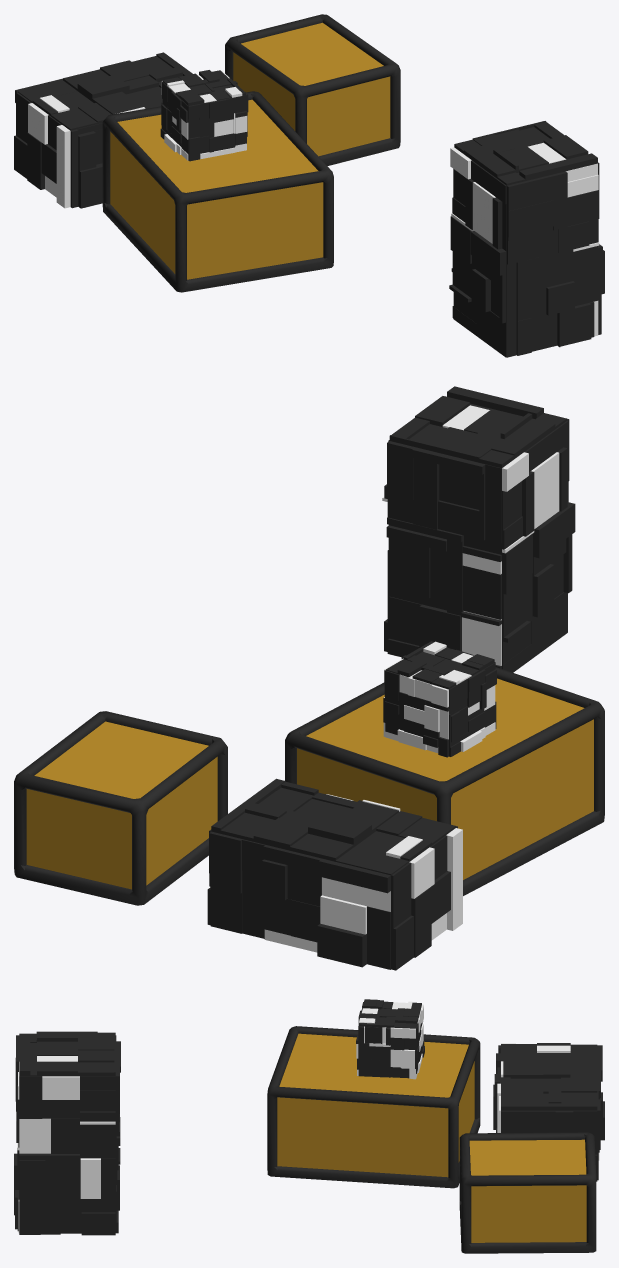
File: commercial_cargo.fbx
The picture shows the model from 3 angles, top to bottom: view 1: azimuth 30°, elevation 25°; view 2: azimuth 150°, elevation 25°; view 3: azimuth 270°, elevation 25°; orthographic projection. The views are drawn at different scales.
Parts seen in each view (by area): view 1: commercial_cargo; view 2: commercial_cargo; view 3: commercial_cargo.
Boxes of the visible parts, x1=… form: commercial_cargo: x1=14, y1=14, x2=604, y2=357; commercial_cargo: x1=14, y1=386, x2=604, y2=970; commercial_cargo: x1=14, y1=999, x2=604, y2=1253.
Size of the model in its own units: 17.4 by 9.42 by 30.68.
